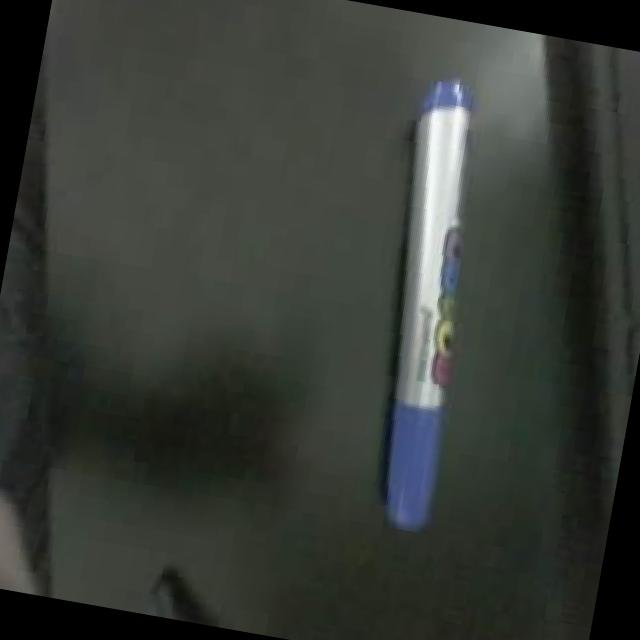board-marker: (384, 78, 471, 528)
